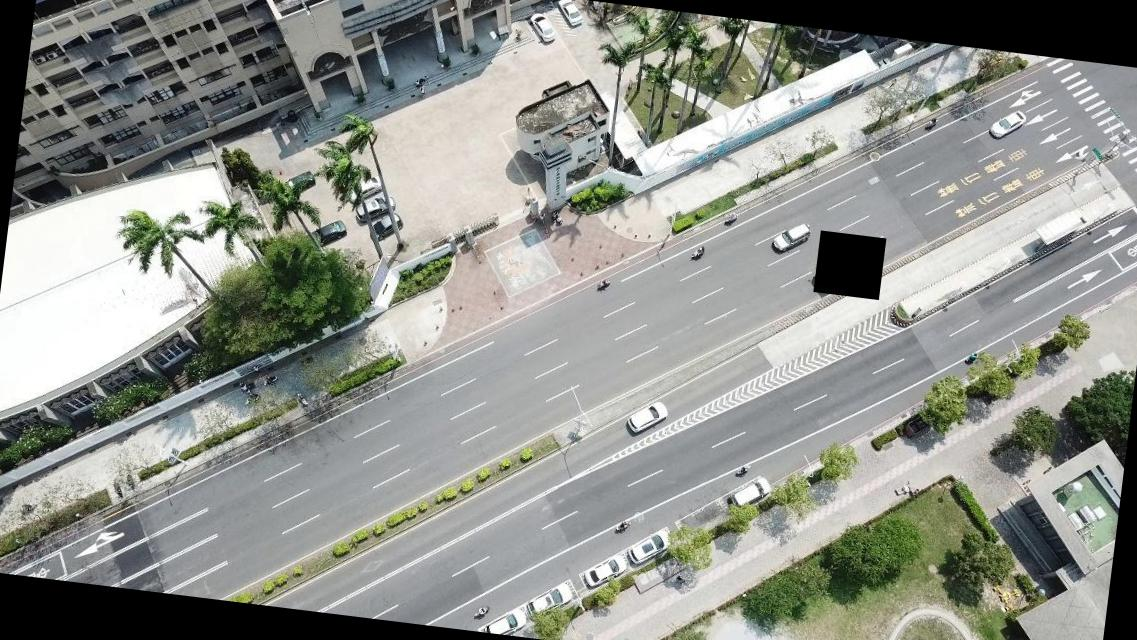vehicle: (626, 525, 674, 571), (528, 576, 576, 620), (725, 472, 773, 516), (624, 396, 668, 440), (582, 551, 627, 591), (476, 603, 528, 637), (353, 192, 397, 229), (344, 170, 386, 208), (308, 214, 350, 250), (769, 220, 810, 256), (987, 108, 1028, 143), (280, 164, 316, 194), (526, 12, 557, 44), (372, 212, 403, 242), (554, 0, 584, 30)
